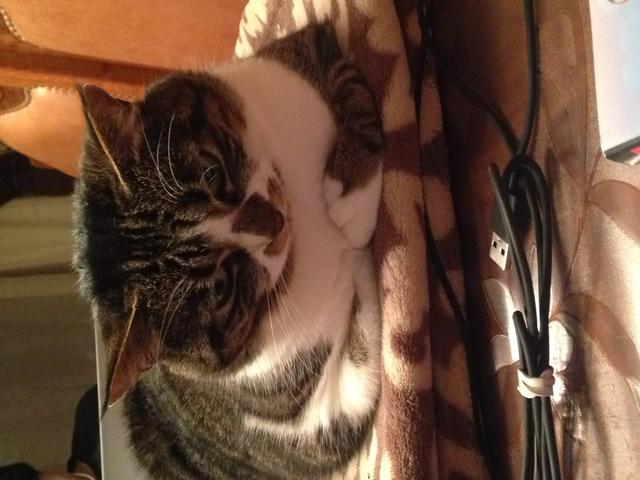playdoh: (69, 17, 383, 480)
